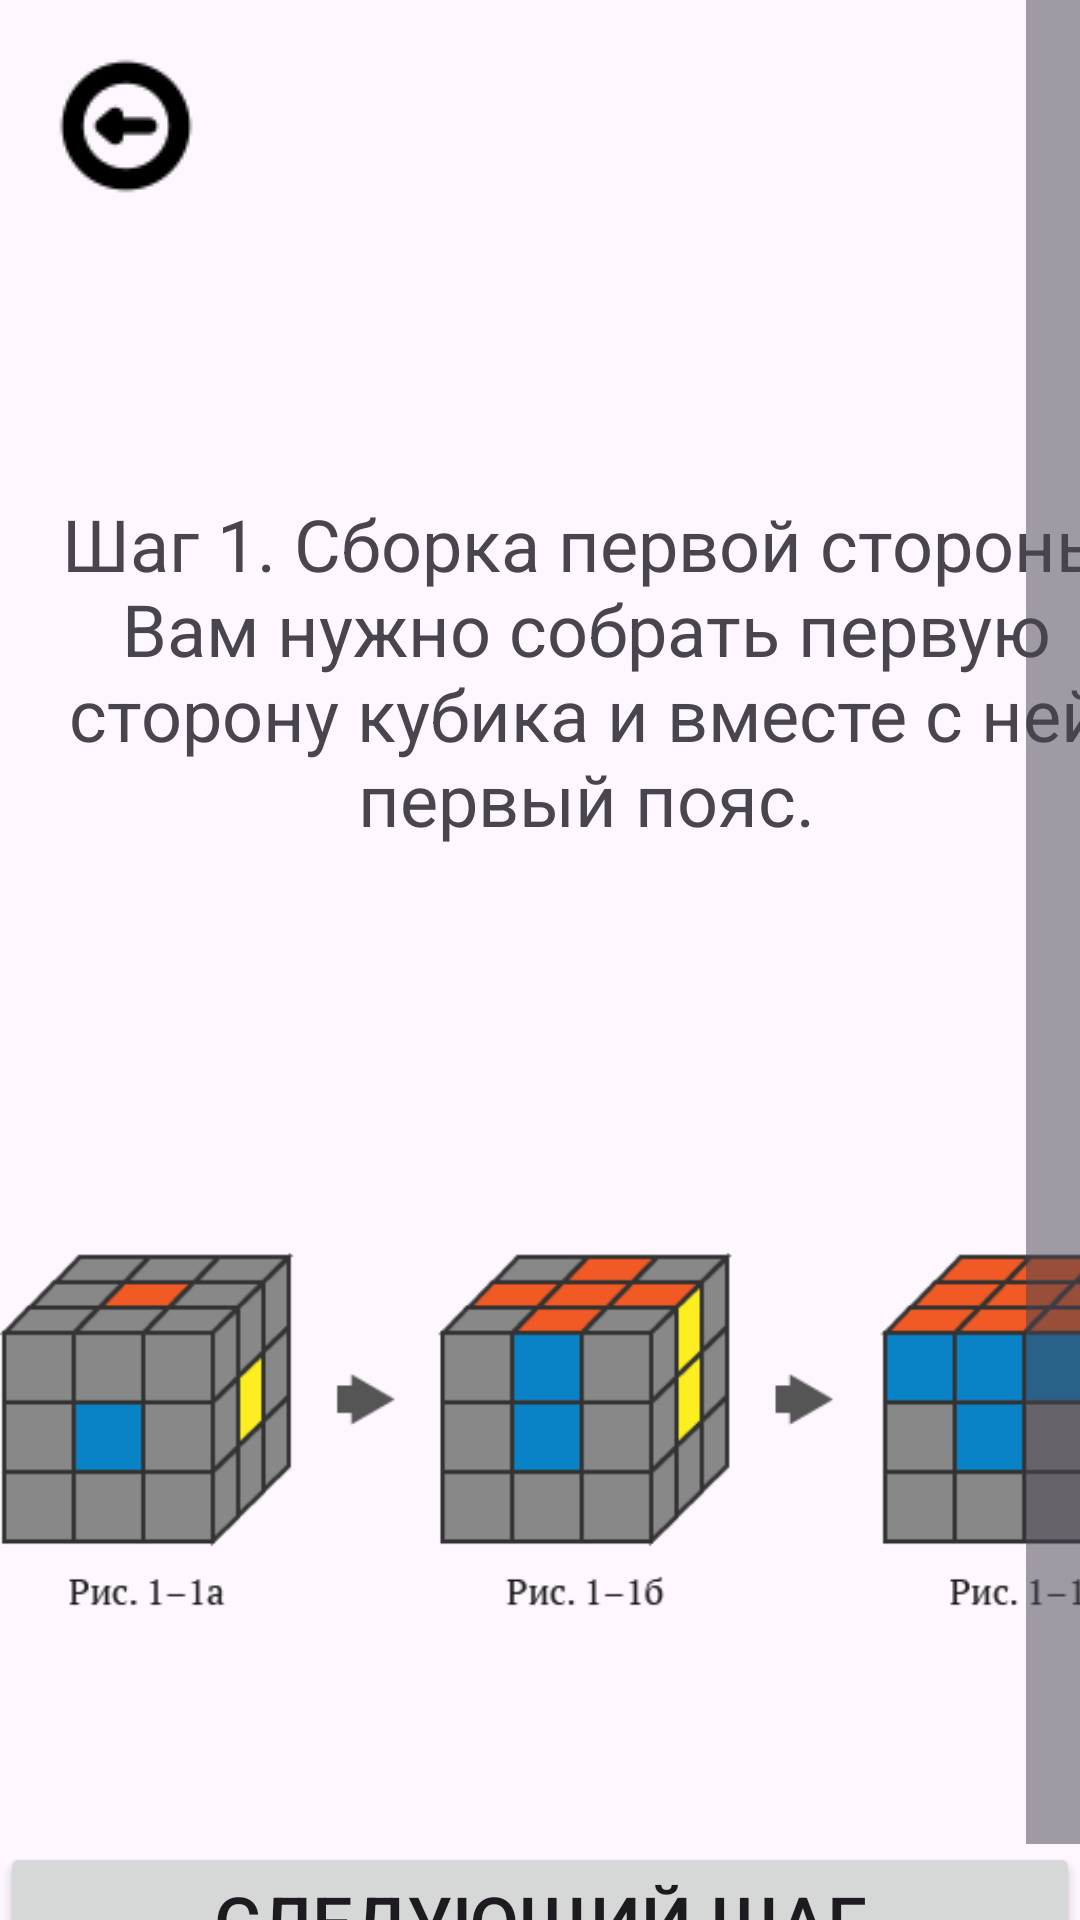

Point at icon controls on the screen. Image size 1080px x 1920px, points as [x,y].
back: [126,126]
